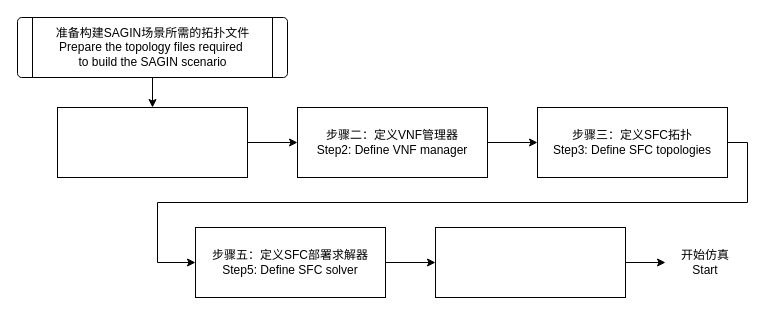
This 773x315 diagram has some shape labels left out. Each missing label, with the centre of its shape:
"步骤一：定义基底网络拓扑 Step1: Define substrate topologies" belongs at (152,142).
"步骤六：定义MiniSFC仿真 Step6: Define MiniSFC simulation" belongs at (530,262).
